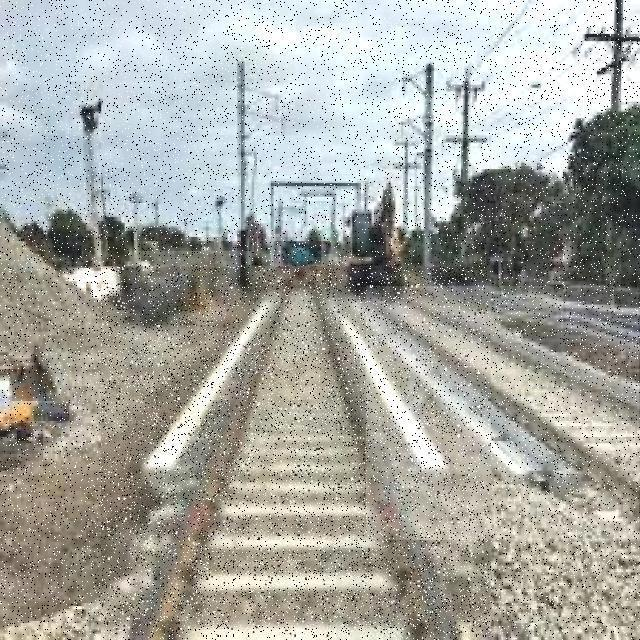rail: (103, 268, 490, 637), (368, 288, 640, 541)
